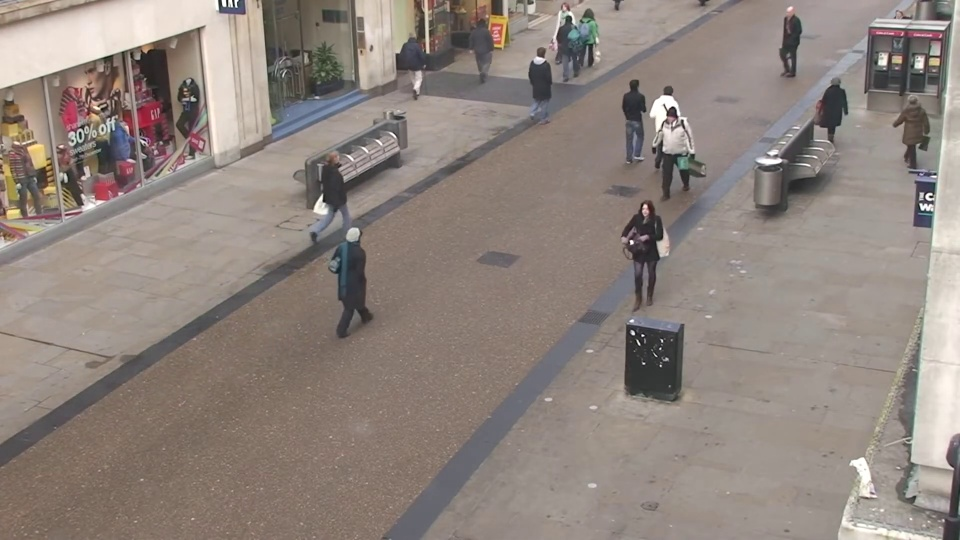pedestrian: (344, 214, 387, 335), (620, 200, 659, 319), (885, 88, 927, 181), (328, 139, 365, 241), (815, 72, 849, 158), (652, 107, 683, 200), (874, 6, 909, 79), (656, 79, 685, 165), (625, 75, 653, 160), (534, 42, 560, 117), (767, 7, 794, 76), (401, 27, 427, 97), (473, 14, 497, 81), (560, 10, 583, 76), (550, 3, 573, 68), (580, 3, 602, 67)
